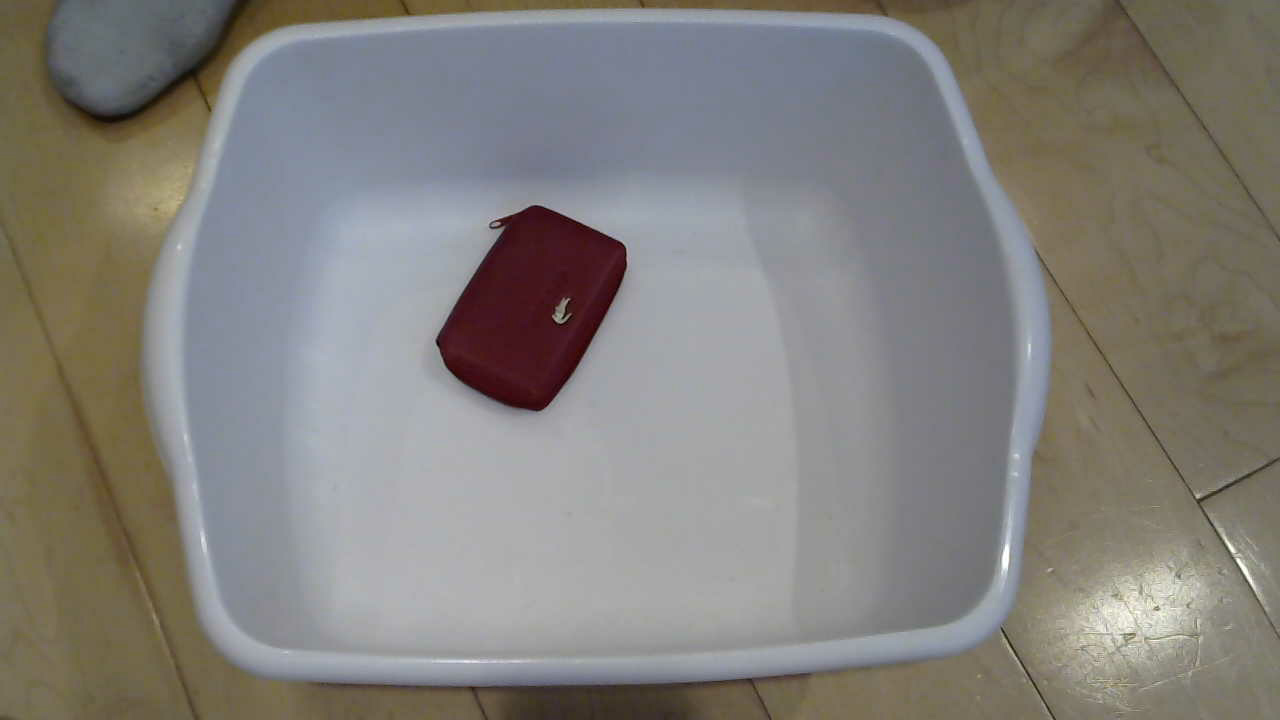wallet: (423, 190, 659, 430)
